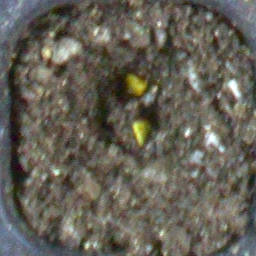pepper seed: (54, 42, 208, 191), (49, 23, 197, 119)
